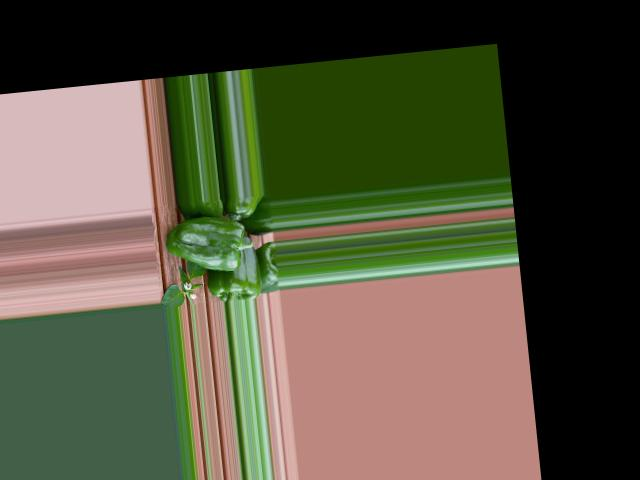bell_pepper: (228, 193, 267, 223)
